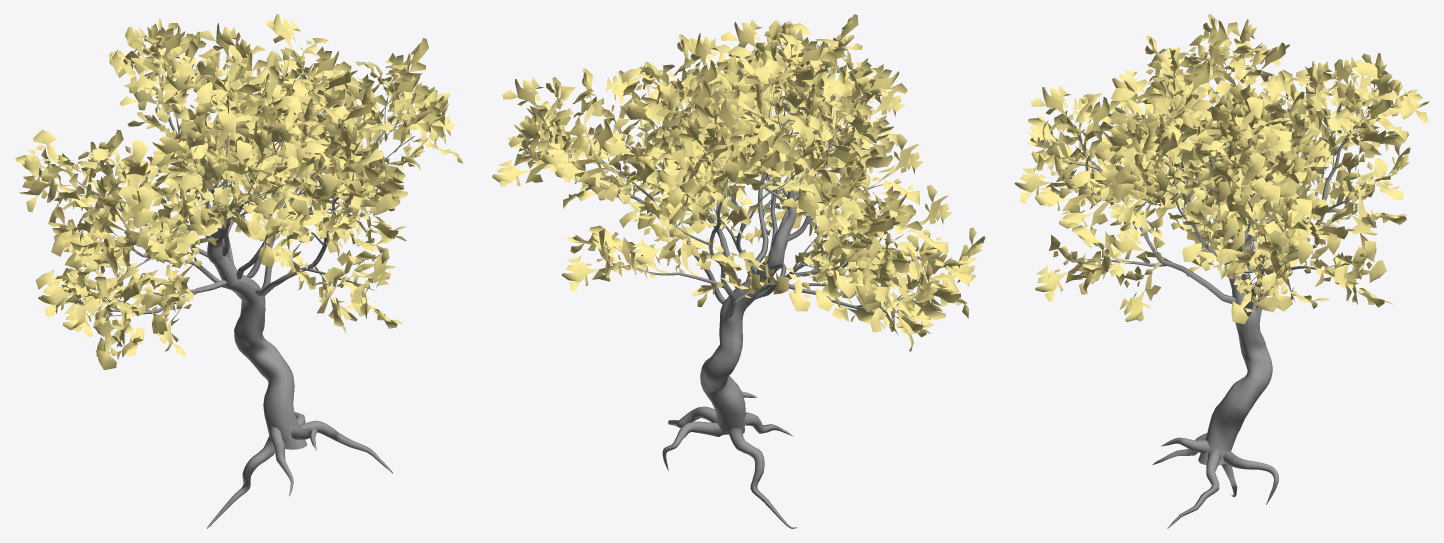
The model's file is tree_01_LOD0.FBX.
3 views of the same model, side by side, from view 1: azimuth 30°, elevation 25°; view 2: azimuth 150°, elevation 25°; view 3: azimuth 270°, elevation 25° (orthographic). The views are drawn at different scales.
Visible parts, largest first — view 1: Tree_01_LOD0; view 2: Tree_01_LOD0; view 3: Tree_01_LOD0.
Boxes of the visible parts, <box> form: Tree_01_LOD0: <box>15,14,463,528</box>; Tree_01_LOD0: <box>492,14,985,528</box>; Tree_01_LOD0: <box>1014,14,1429,528</box>.
Size of the model in its own units: 8.9 by 9.65 by 7.45.
